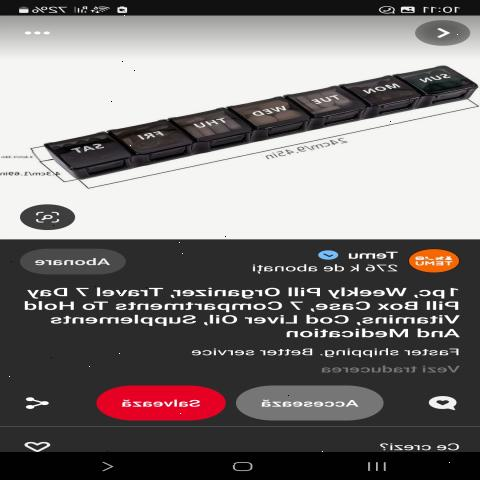PillBox: (26, 50, 476, 186)
